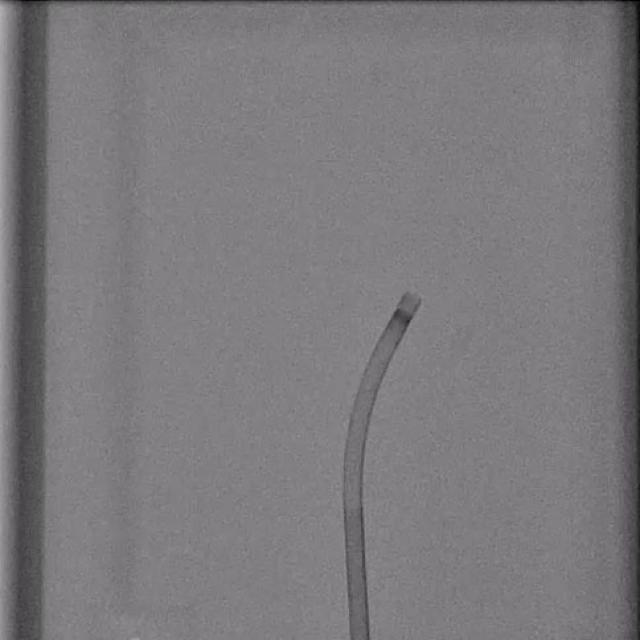bend: (342, 492, 362, 508)
entry: (350, 634, 371, 640)
marker: (392, 308, 413, 326)
tip: (406, 290, 422, 304)
